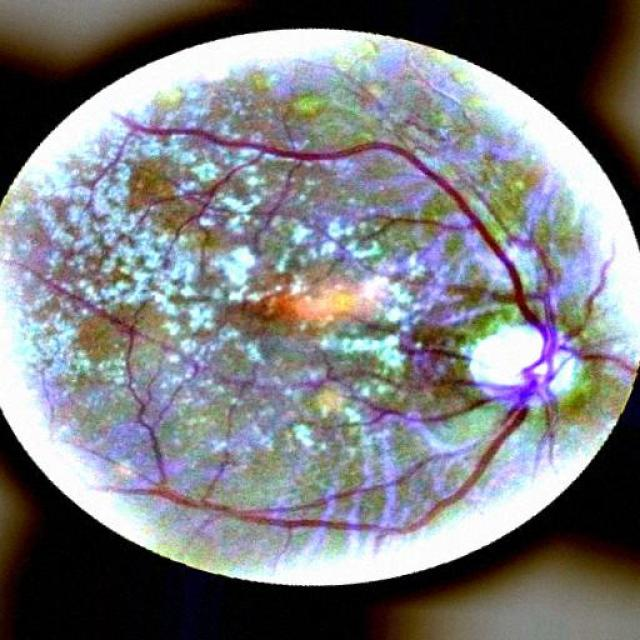Macula: (255, 282, 344, 332)
Nerves: (144, 382, 542, 541), (244, 143, 531, 318), (325, 303, 404, 342), (412, 346, 476, 362)
Optic Disk: (469, 319, 585, 406)
